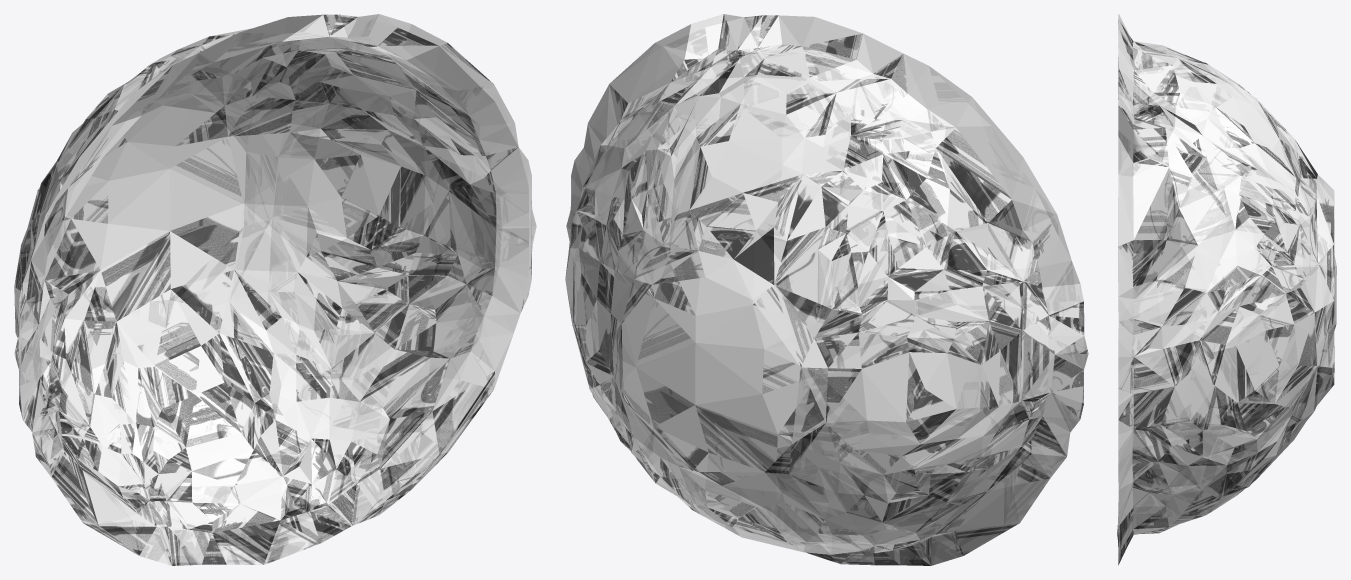
File: model_align.obj
The picture shows the model from 3 angles, left to right: view 1: azimuth 30°, elevation 25°; view 2: azimuth 150°, elevation 25°; view 3: azimuth 270°, elevation 25°; orthographic projection. The views are drawn at different scales.
Bounding box in the file's own units: 0.1507 × 0.1494 × 0.0598.
